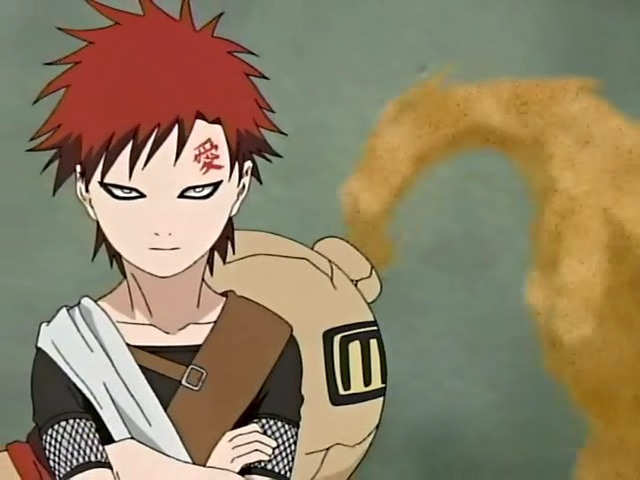gaara: (73, 109, 263, 282)
